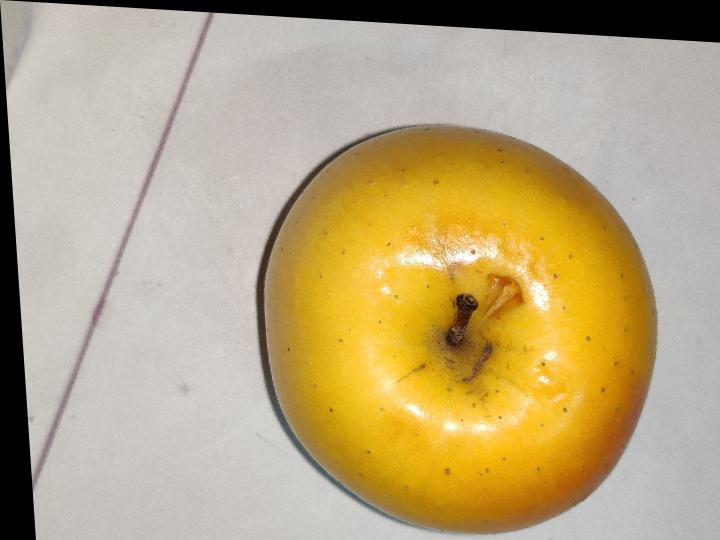apple: (264, 128, 656, 531)
surface_damage: (470, 274, 524, 325)
